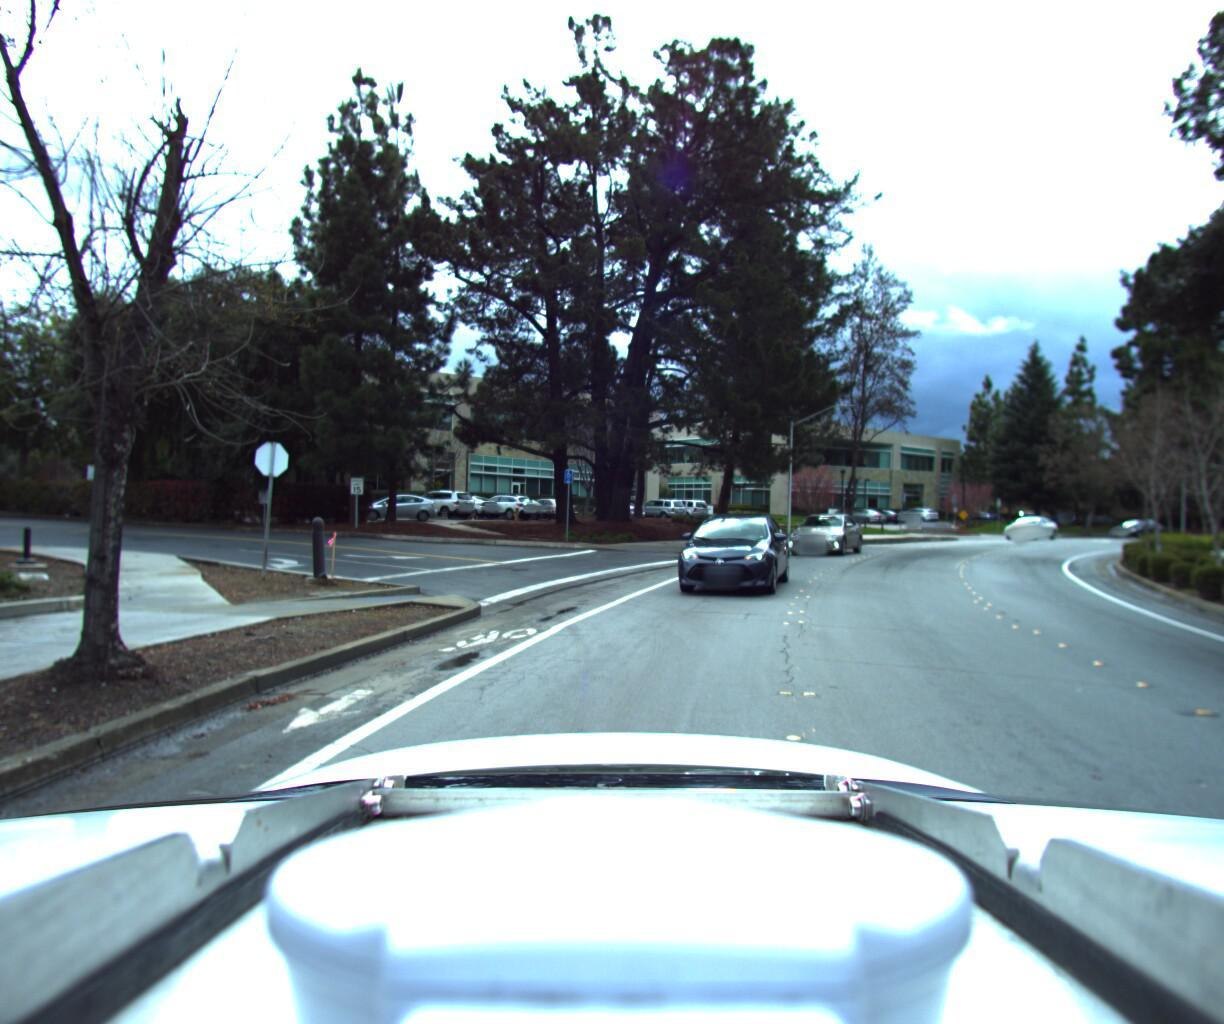car: (659, 508, 792, 602), (778, 505, 858, 552), (993, 509, 1052, 538), (1101, 521, 1159, 546)
